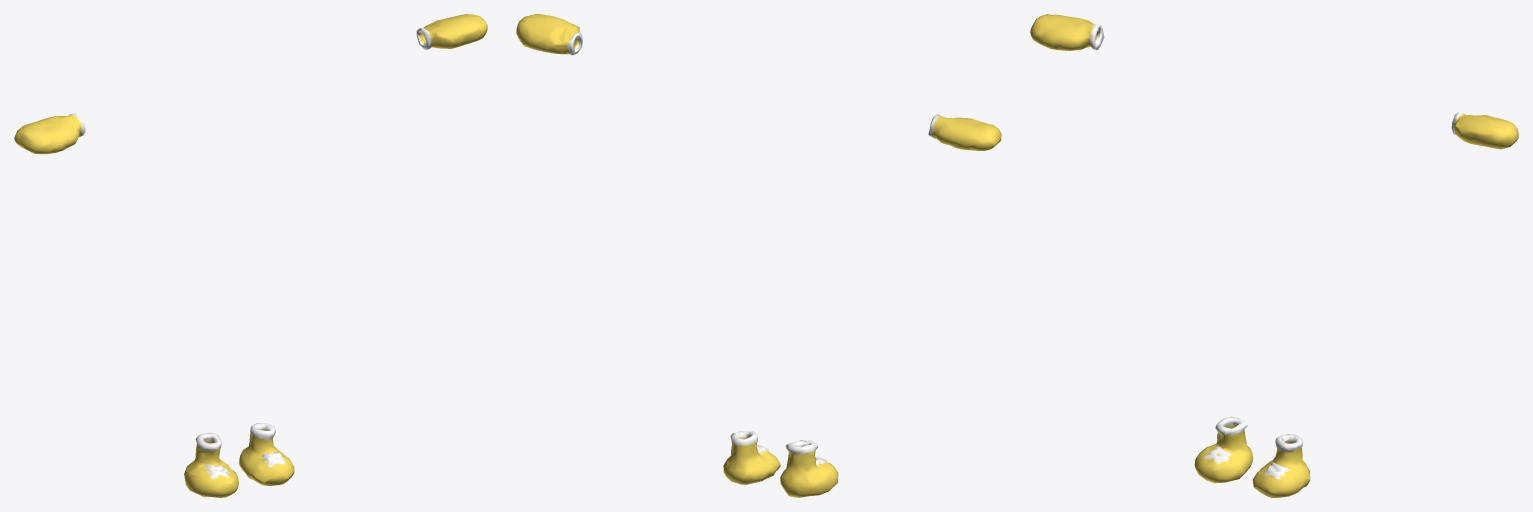
File: yellow shoes and gloves.glb
The picture shows the model from 3 angles, left to right: view 1: azimuth 30°, elevation 25°; view 2: azimuth 150°, elevation 25°; view 3: azimuth 330°, elevation 25°; orthographic projection. The views are drawn at different scales.
Parts seen in each view (by area): view 1: accessories_christmas_yellow.001; view 2: accessories_christmas_yellow.001; view 3: accessories_christmas_yellow.001.
Boxes of the visible parts, <box> form: accessories_christmas_yellow.001: <box>14,14,487,497</box>; accessories_christmas_yellow.001: <box>516,14,1001,497</box>; accessories_christmas_yellow.001: <box>1030,14,1518,497</box>.
Size of the model in its own units: 1.01 by 0.8412 by 0.1316.
Materials: 1 (1 with a texture image).
